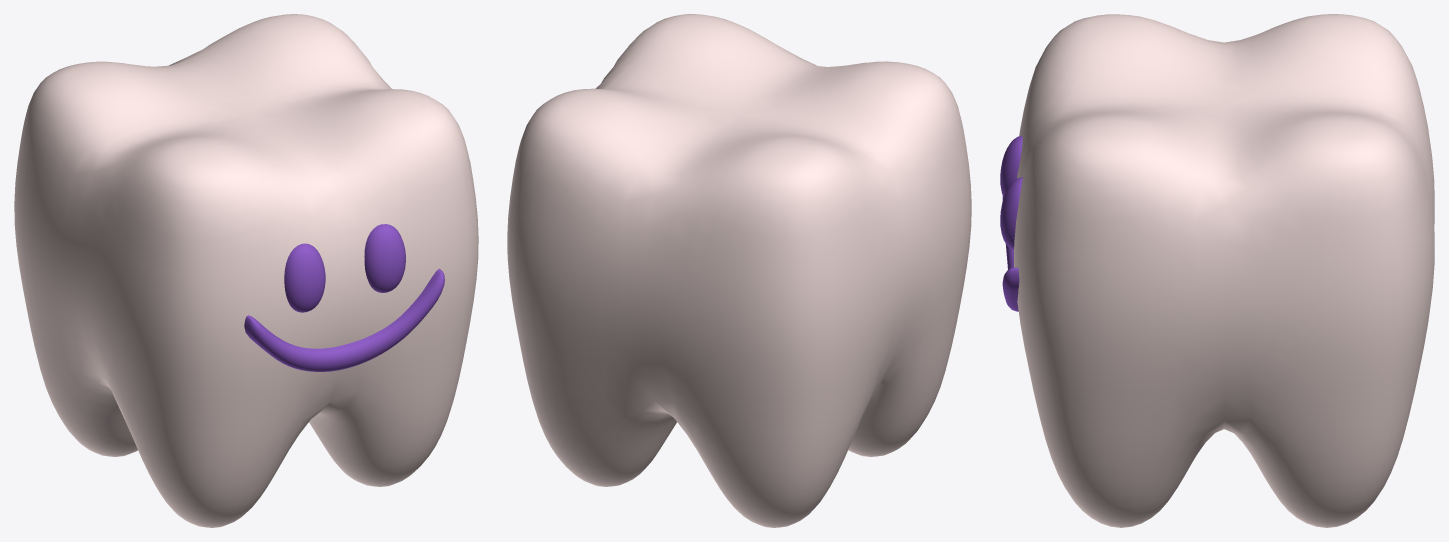
Rendered from Public_20_Character_Big_Tooth_1.glb.
3 renders of one model, left to right at view 1: azimuth 30°, elevation 25°; view 2: azimuth 150°, elevation 25°; view 3: azimuth 270°, elevation 25°, orthographic. The views are drawn at different scales.
Visible parts, largest first — view 1: Public_20_Character_Big_Tooth_1; view 2: Public_20_Character_Big_Tooth_1; view 3: Public_20_Character_Big_Tooth_1.
Part boxes in pixels (x1,y1,x2,y2): Public_20_Character_Big_Tooth_1: (14, 14, 478, 527); Public_20_Character_Big_Tooth_1: (507, 14, 971, 527); Public_20_Character_Big_Tooth_1: (1000, 14, 1434, 527).
Size of the model in its own units: 3.43 by 3.63 by 3.55.
1 material, 1 textured.
